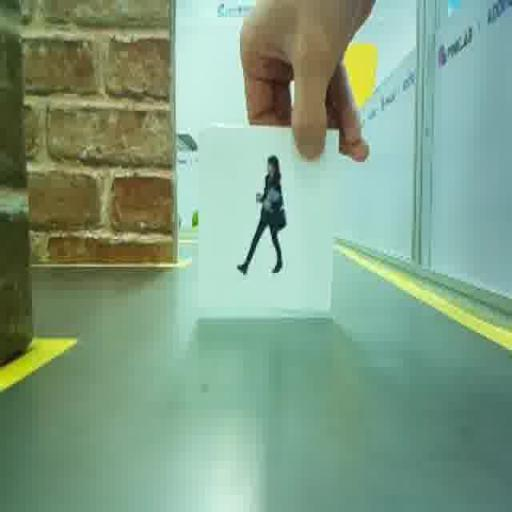human: (237, 155, 286, 274)
